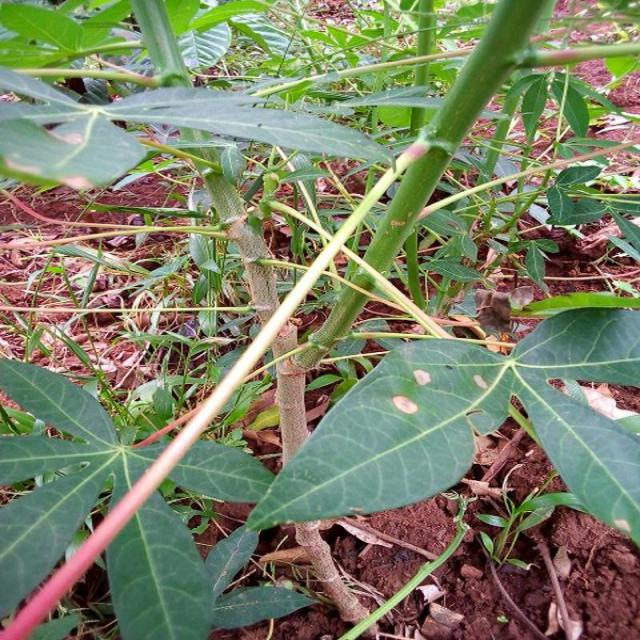cassava leaf: (245, 336, 514, 533)
